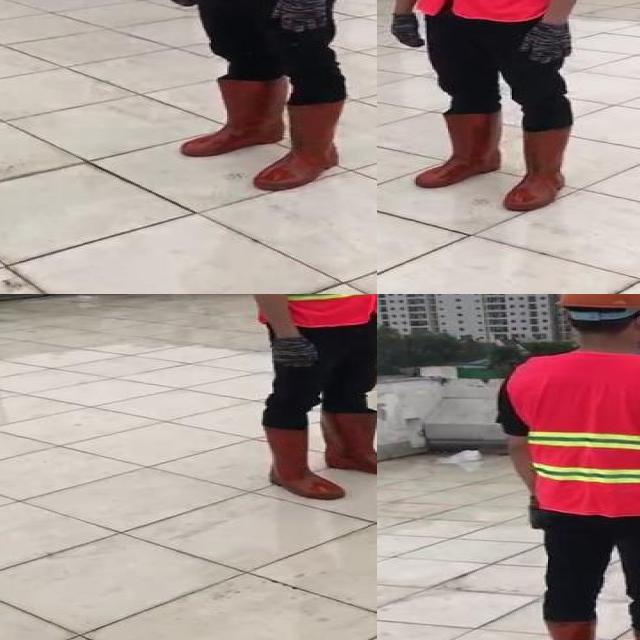boots: (179, 72, 295, 158), (254, 102, 348, 190), (249, 420, 348, 502), (416, 110, 505, 189), (501, 121, 567, 215), (321, 409, 377, 477), (535, 621, 608, 640)
hand_glove: (518, 24, 580, 65), (268, 0, 334, 35), (265, 334, 322, 368), (386, 12, 428, 50)
head_helmet: (552, 294, 640, 311)
person: (488, 294, 640, 640), (378, 0, 609, 216), (152, 0, 377, 199), (229, 294, 377, 502)
vest: (508, 352, 640, 517), (229, 294, 377, 328)
